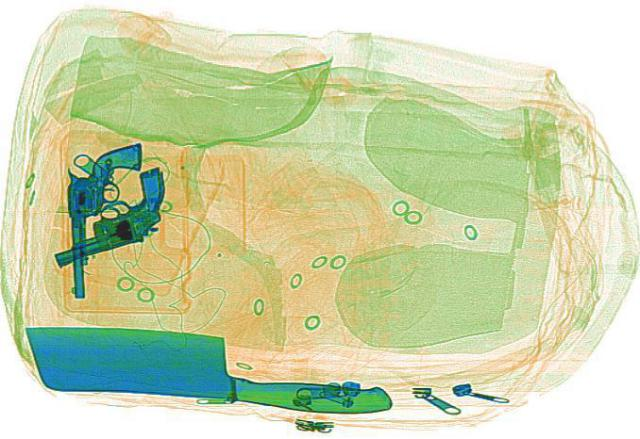Gun: (15, 166, 201, 263), (65, 141, 141, 298)
Knife: (17, 324, 395, 413)
